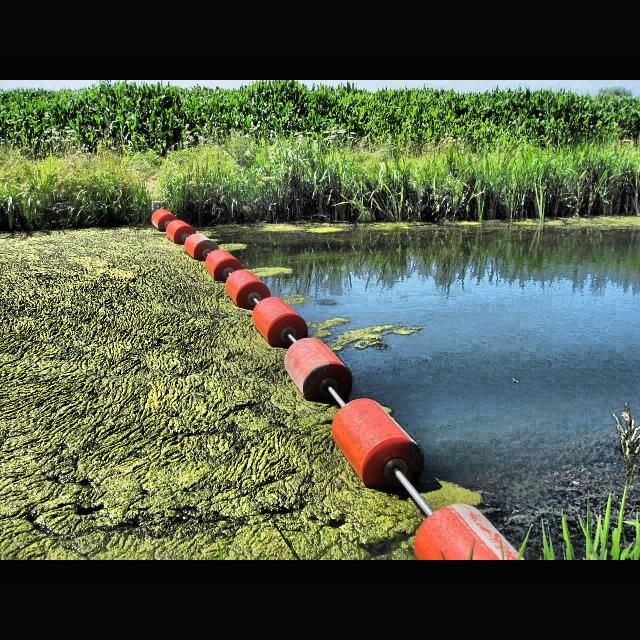buoy: (327, 392, 429, 496), (414, 500, 526, 560), (282, 336, 356, 404), (252, 296, 310, 350), (224, 266, 272, 312), (205, 247, 245, 285), (184, 232, 224, 264), (166, 219, 198, 243), (152, 208, 180, 232)
